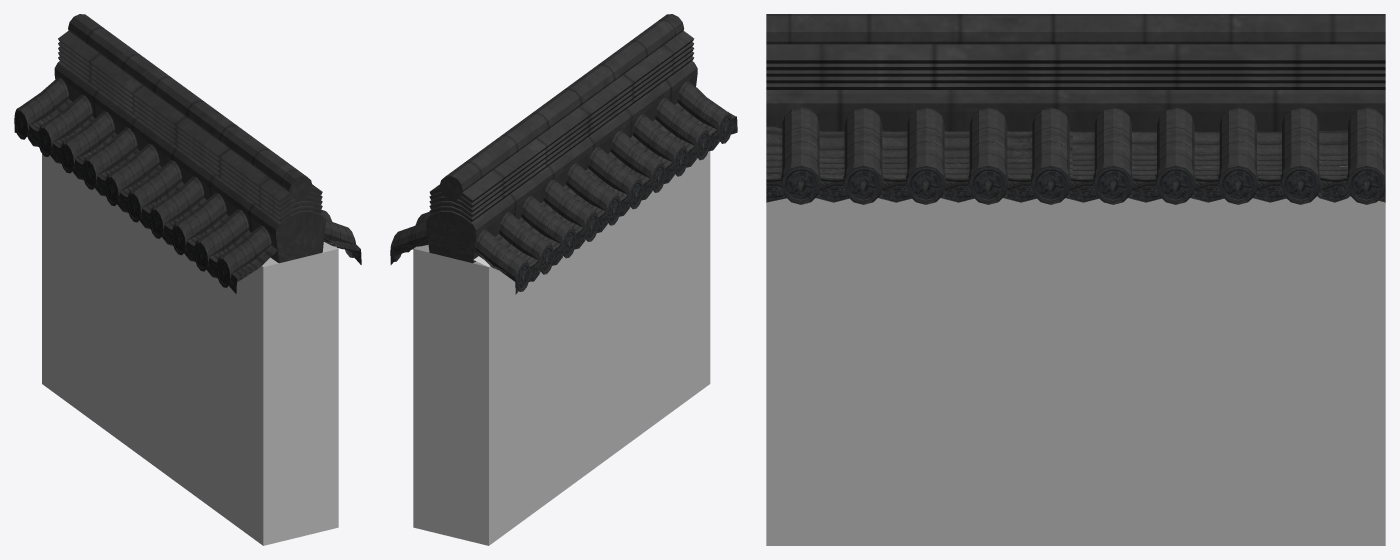
Rendered from SM_JSH_HG_StoneWallH.fbx.
The picture shows the model from 3 angles, left to right: view 1: azimuth 30°, elevation 25°; view 2: azimuth 150°, elevation 25°; view 3: azimuth 270°, elevation 25°; orthographic projection. The views are drawn at different scales.
Parts seen in each view (by area): view 1: SM_JSH_HG_StoneWallH; view 2: SM_JSH_HG_StoneWallH; view 3: SM_JSH_HG_StoneWallH.
Boxes of the visible parts, x1,y1,x2,y2 form: SM_JSH_HG_StoneWallH: [14, 14, 361, 545]; SM_JSH_HG_StoneWallH: [390, 14, 737, 545]; SM_JSH_HG_StoneWallH: [766, 14, 1385, 545].
Bounding box in the file's own units: 65.49 × 198 × 178.
